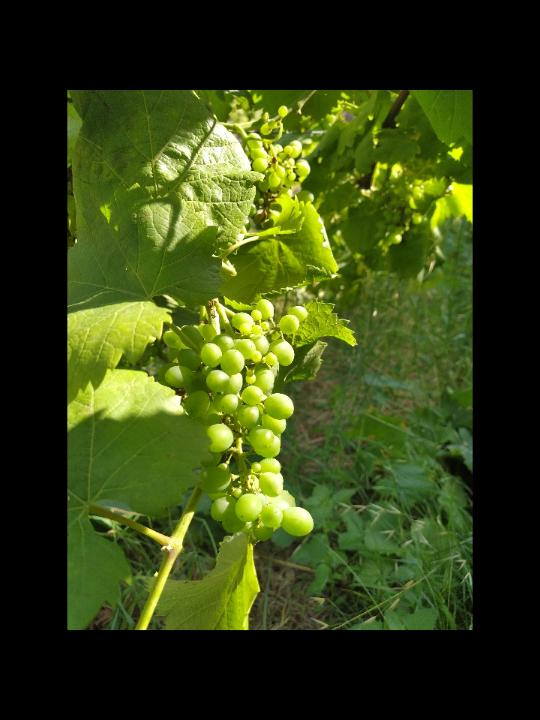grape: (161, 295, 318, 539)
